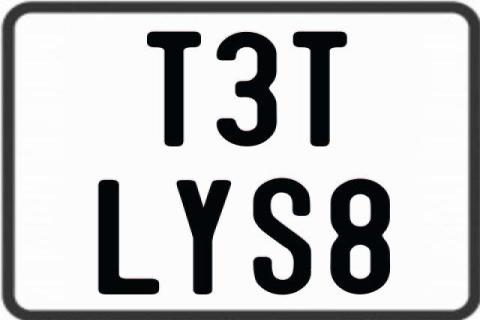0: (216, 32, 280, 148), (327, 178, 388, 298)
L: (98, 180, 162, 296)
S: (250, 177, 314, 295)
T: (290, 31, 349, 147), (147, 30, 201, 146)
Y: (176, 180, 236, 296)
